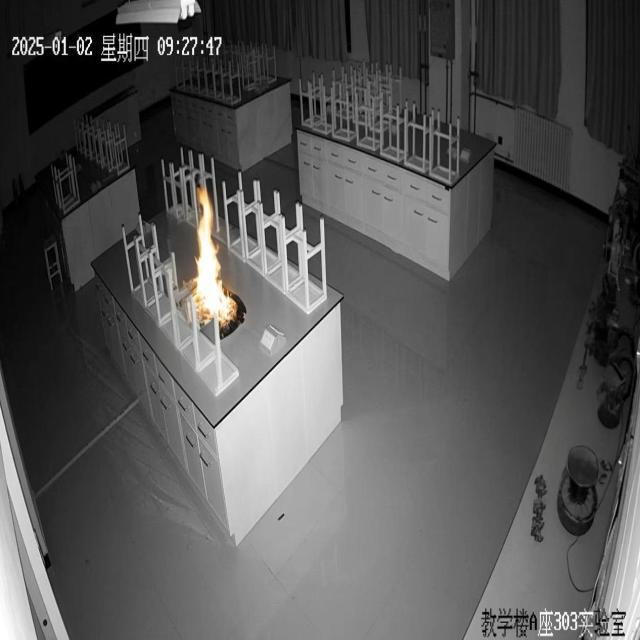smoke: (188, 182, 237, 328)
